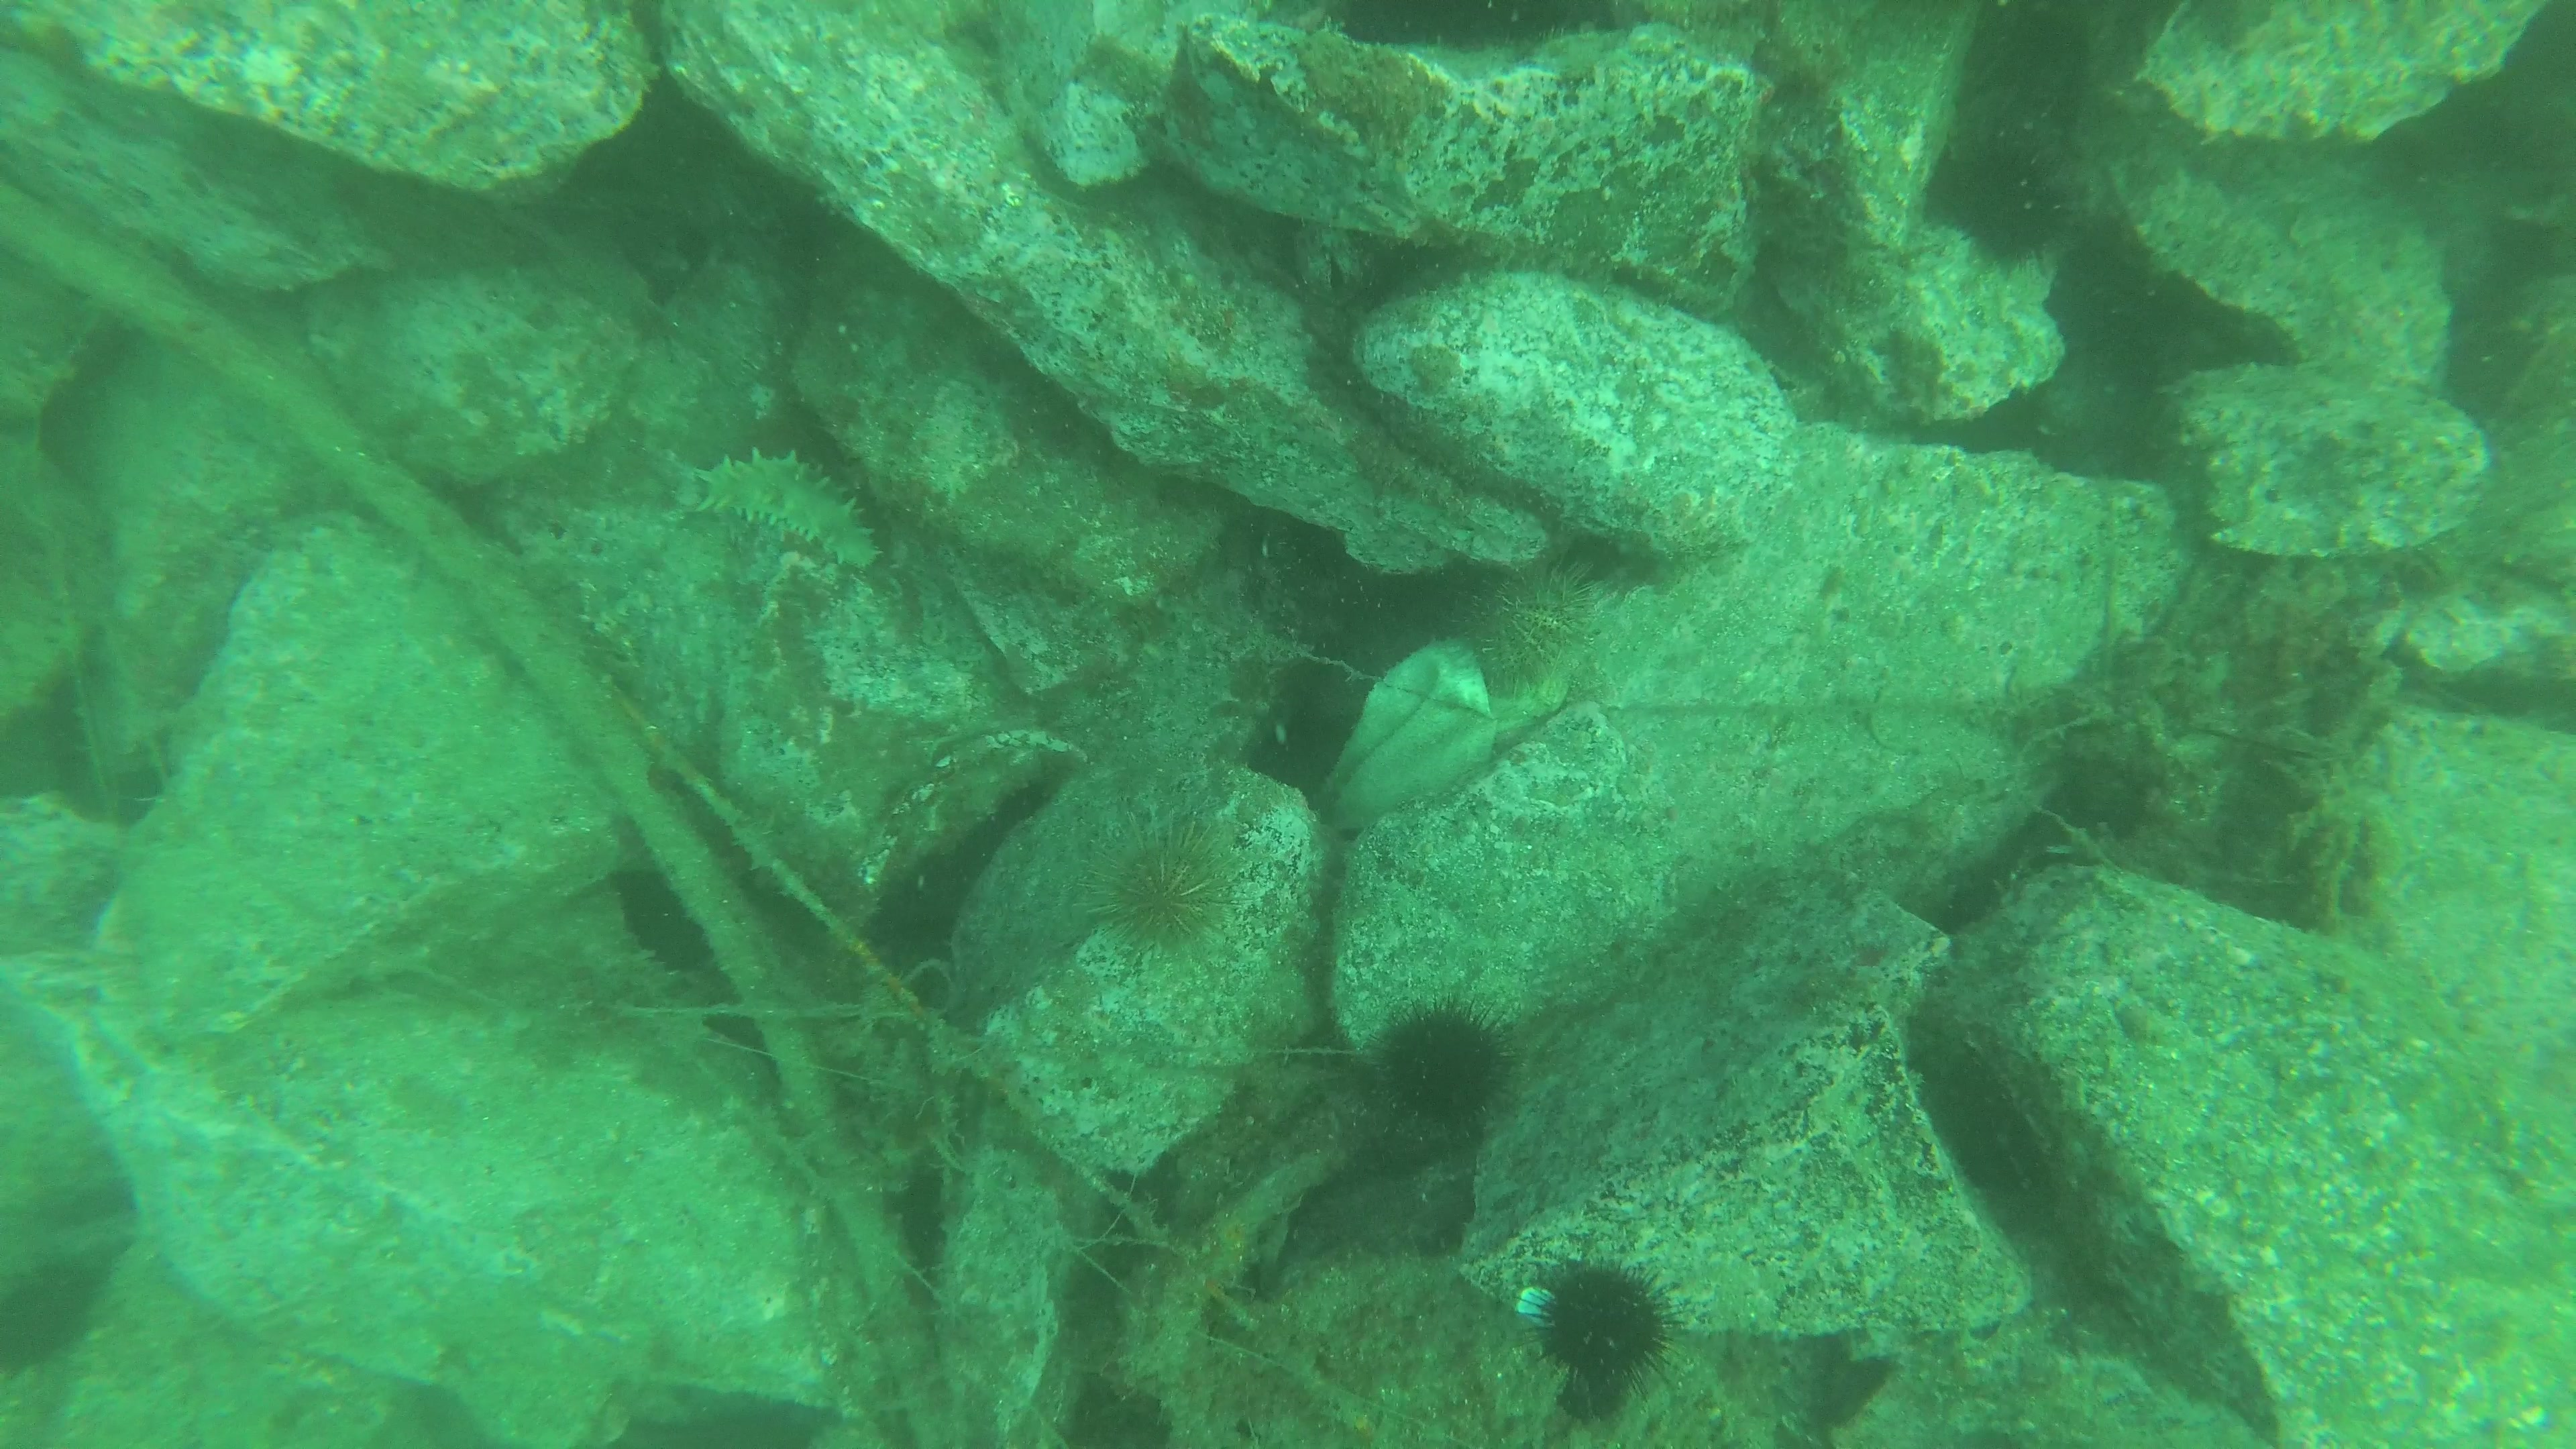echinus: (1905, 1005, 2066, 1231), (1083, 805, 1254, 980), (1362, 991, 1513, 1152), (1932, 113, 2079, 278), (1525, 1249, 1679, 1396), (1453, 561, 1603, 701)
holothurian: (676, 444, 899, 591)
